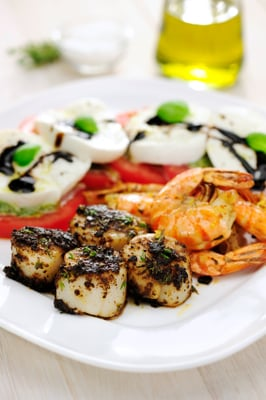pizza: (156, 0, 244, 90)
